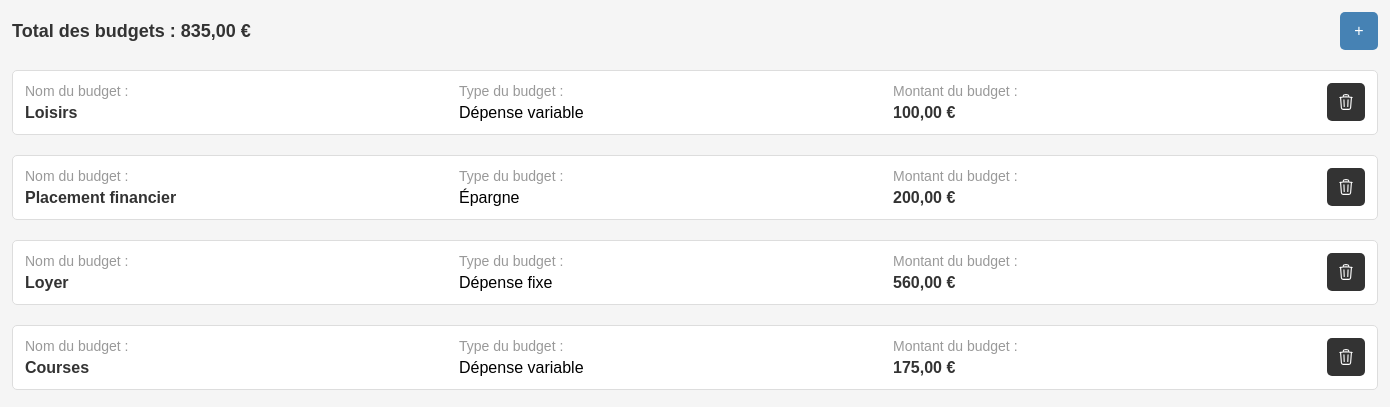
<BudgetsManagement /> › should remove budget
Expected: the text "Loisirs" is shown, [25,104,78,121]
Expected: the text "100,00 €" is shown, [893,104,955,121]
Click the button without text in the row of "100,00 €": (1346, 102) [1327,83,1365,121]
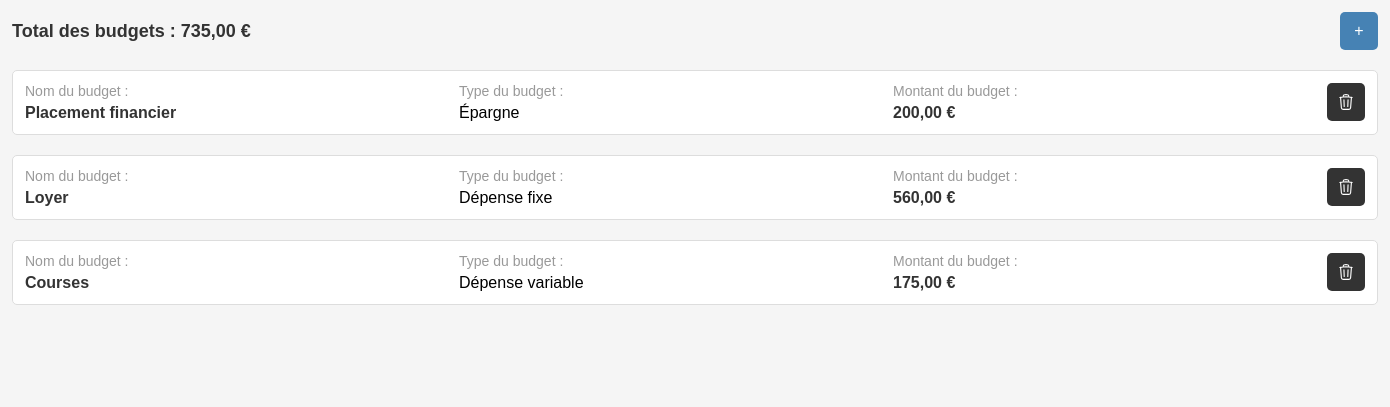
Result: the text "Loisirs" is gone
Result: the text "100,00 €" is gone
